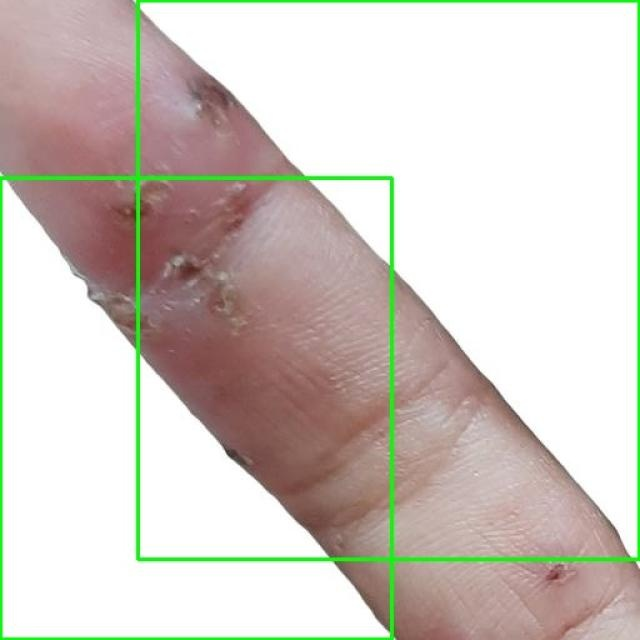Scabies: (138, 0, 639, 559), (0, 178, 391, 639)
